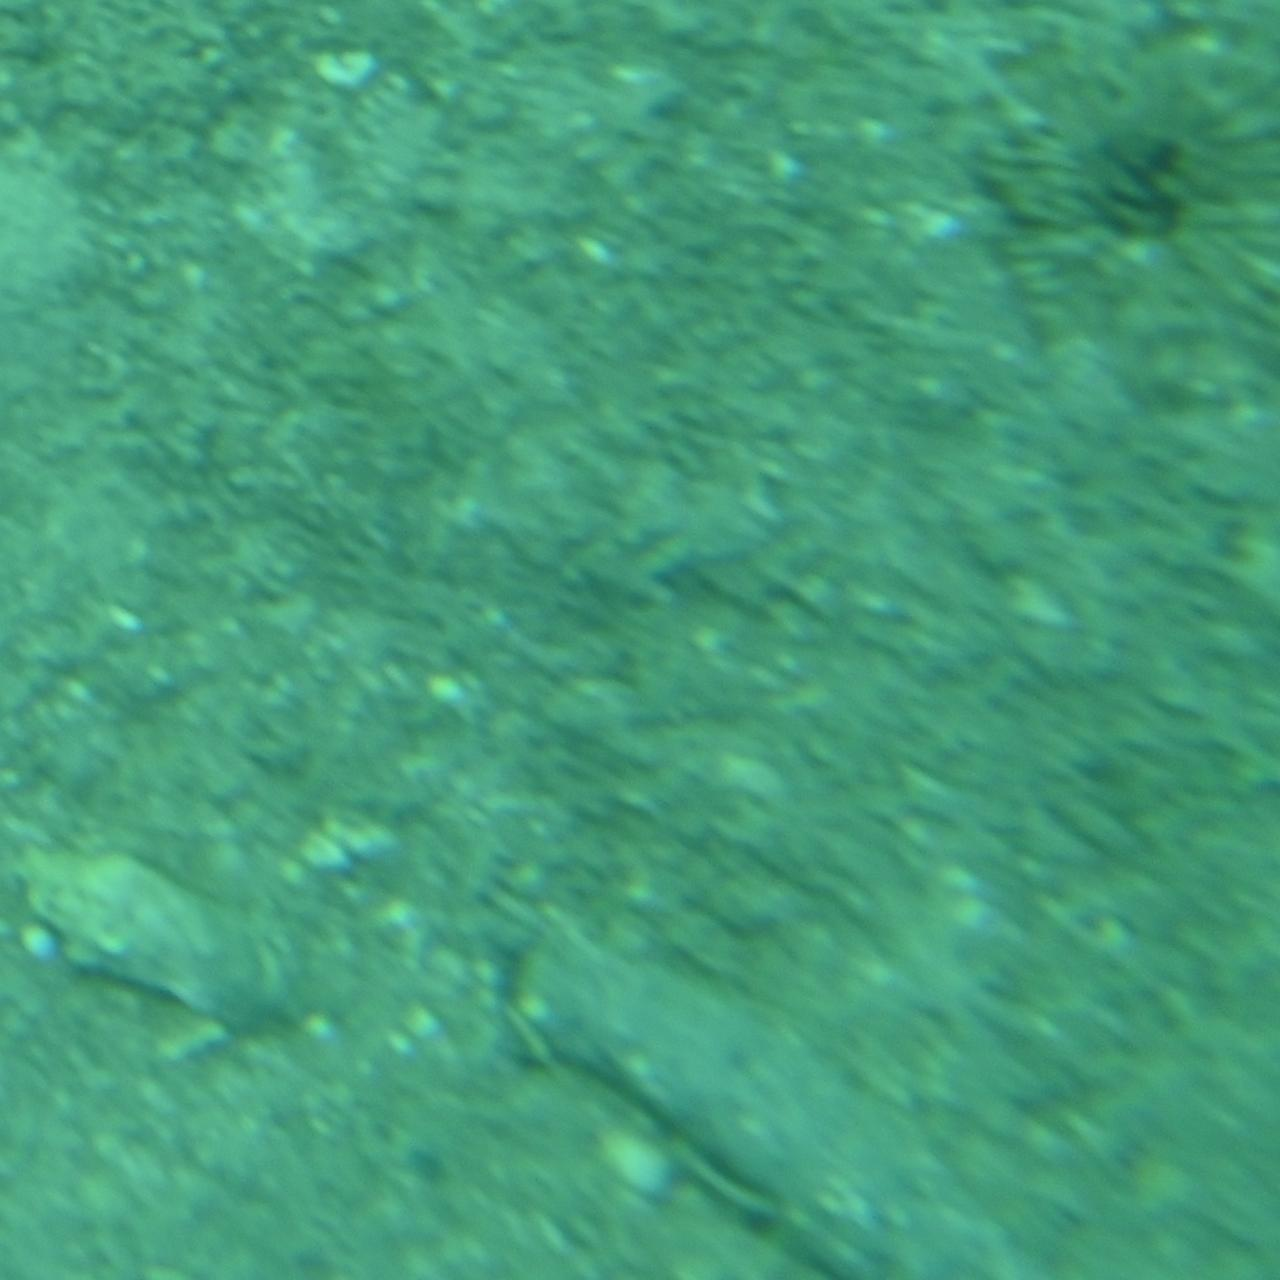Condylactis aurantiaca: (968, 0, 1280, 457)
Holothuria tubulosa: (493, 915, 1064, 1279)
